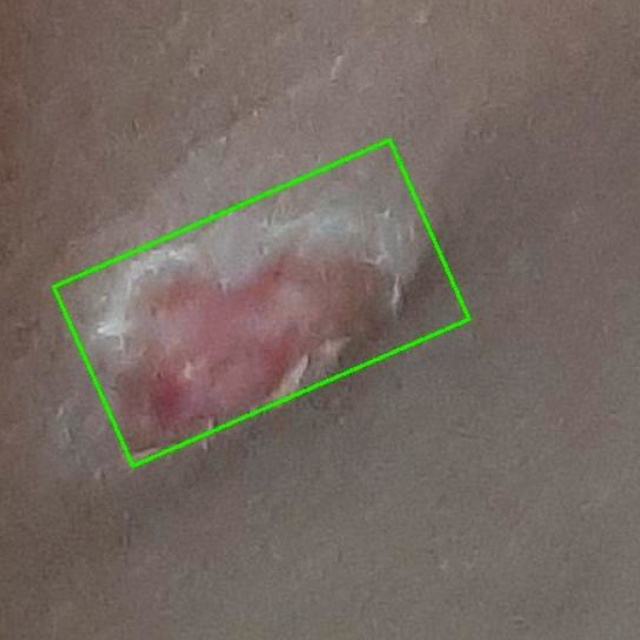Eczema: (53, 140, 467, 467)
